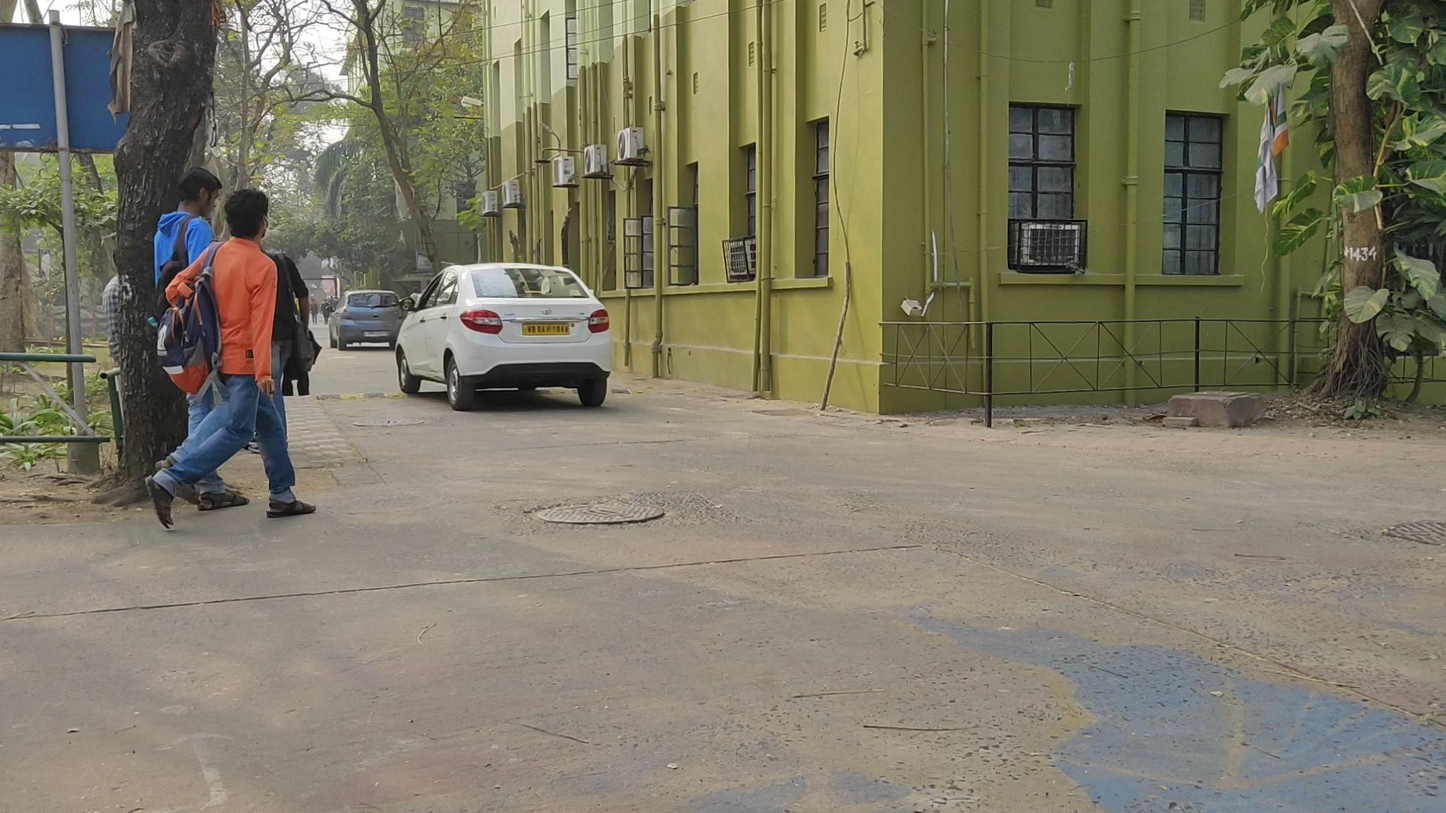car: (398, 264, 612, 410), (329, 291, 403, 349)
